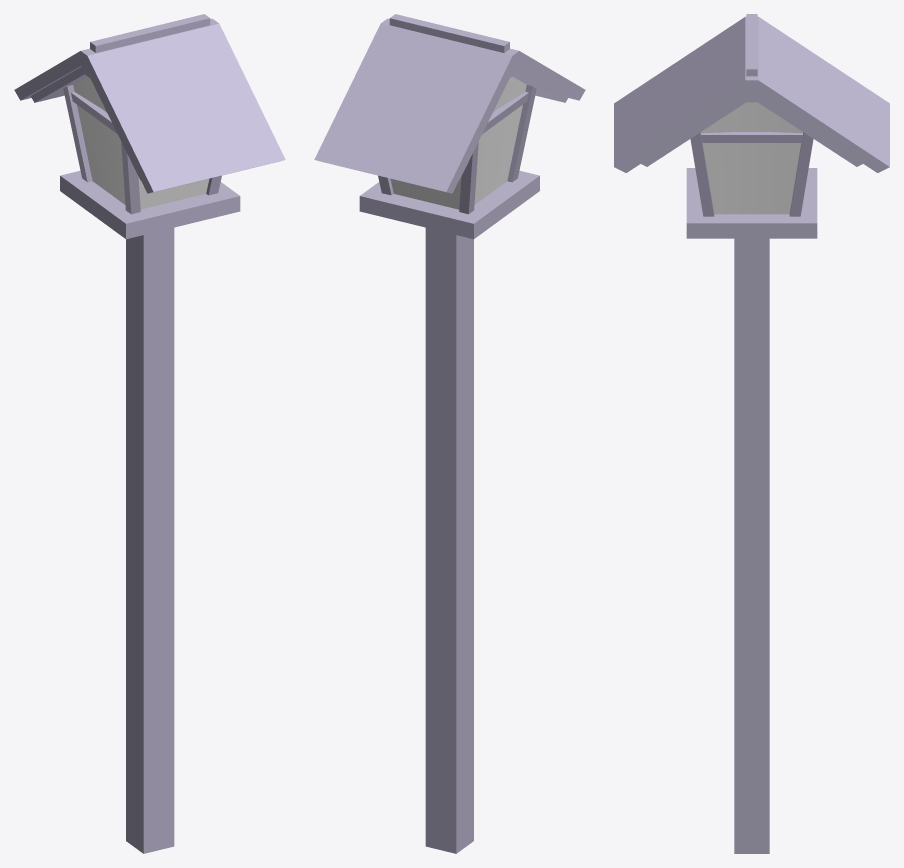
Rendered from japaneseLamp2.fbx.
The picture shows the model from 3 angles, left to right: view 1: azimuth 30°, elevation 25°; view 2: azimuth 150°, elevation 25°; view 3: azimuth 270°, elevation 25°; orthographic projection.
Visible parts, largest first — view 1: LampWood, Lamp; view 2: LampWood, Lamp; view 3: LampWood, Lamp.
Part boxes in pixels (bbox=[...]): LampWood: bbox=[14, 14, 285, 853]; Lamp: bbox=[73, 76, 209, 209]; LampWood: bbox=[314, 14, 585, 853]; Lamp: bbox=[390, 76, 526, 209]; LampWood: bbox=[614, 14, 889, 853]; Lamp: bbox=[701, 102, 802, 214].
Size of the model in its own units: 201 by 1183 by 367.
